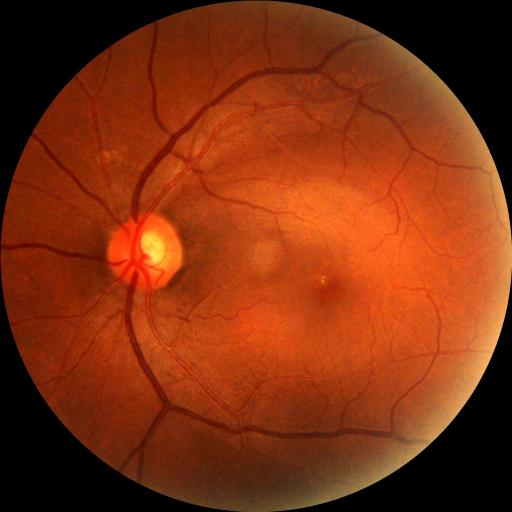Optic Cup: (135, 231, 166, 265)
Optic Disc: (106, 212, 184, 290)
